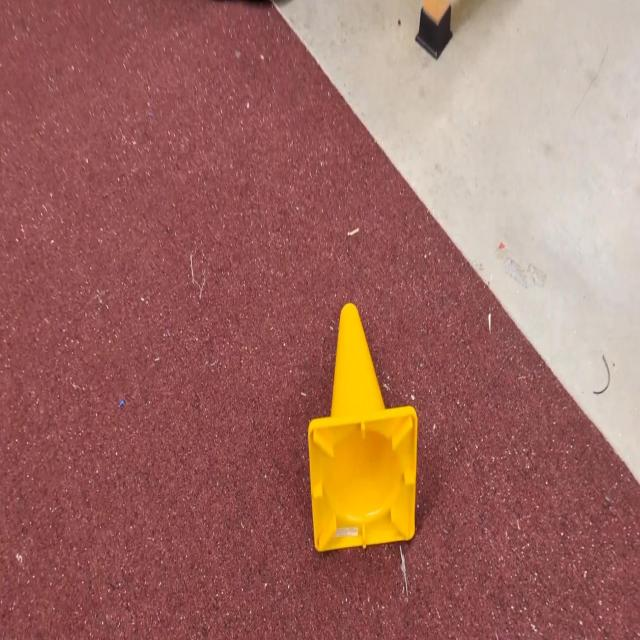frc_cone: (308, 303, 417, 552)
